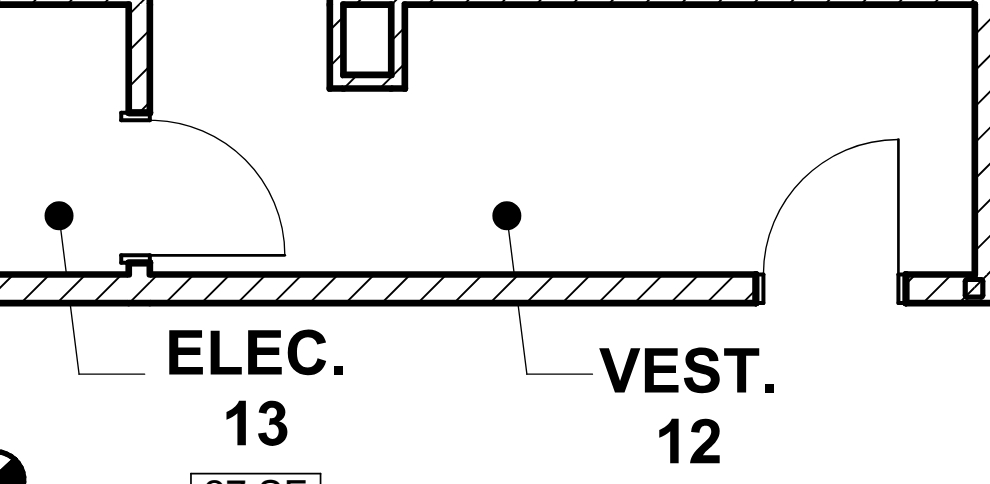door: (749, 131, 913, 323), (104, 109, 303, 266)
